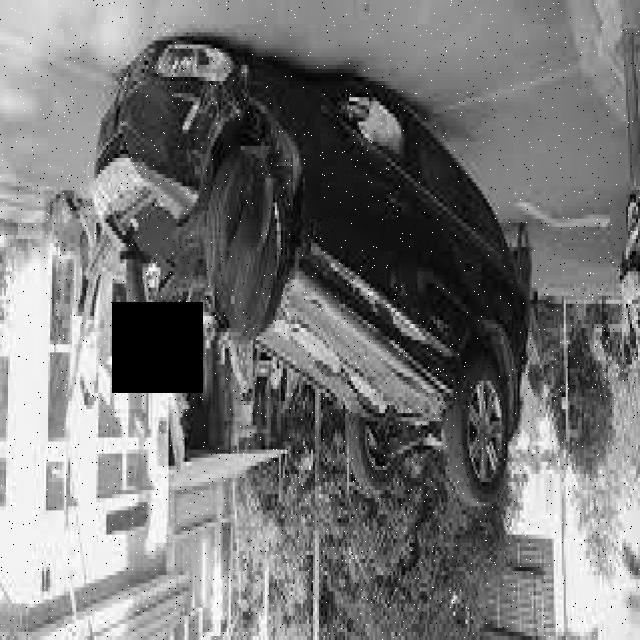severe: (86, 26, 532, 508)
